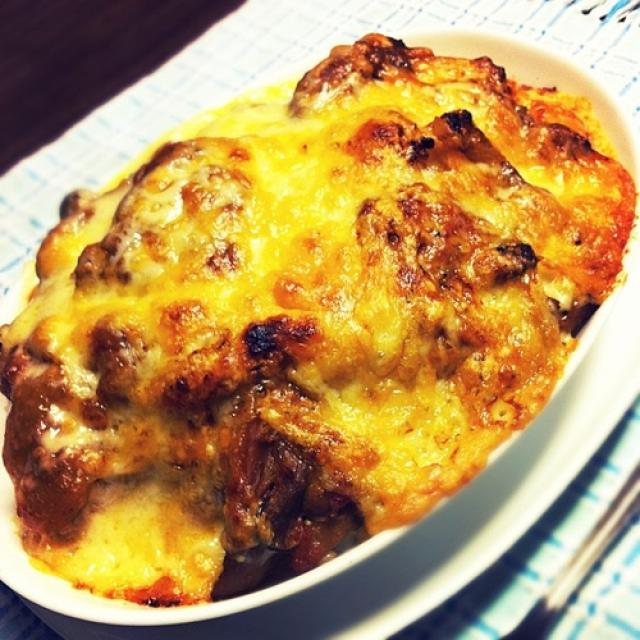米饭主食: (9, 26, 619, 613)
